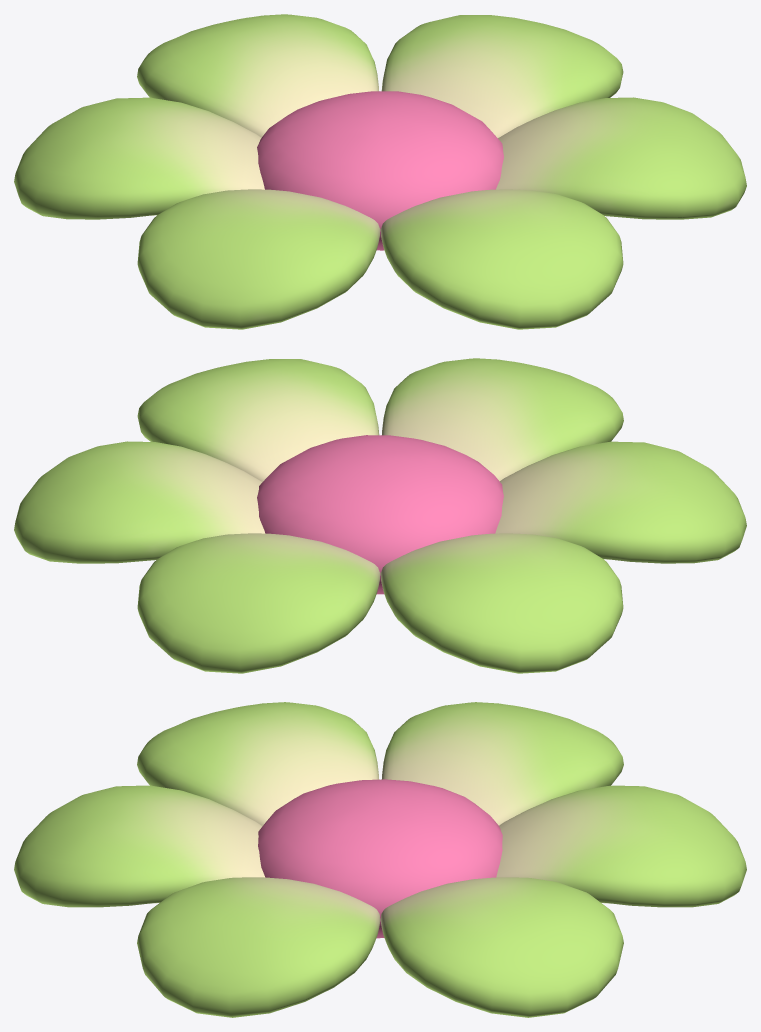
The model's file is hoa3.fbx.
3 renders of one model, top to bottom at view 1: azimuth 30°, elevation 25°; view 2: azimuth 150°, elevation 25°; view 3: azimuth 270°, elevation 25°, orthographic.
Visible parts, largest first — view 1: pasted__polySurface75, polySurface76, polySurface21, polySurface77, polySurface75, pasted__polySurface74, polySurface74; view 2: pasted__polySurface74, polySurface75, polySurface21, polySurface74, polySurface76, pasted__polySurface75, polySurface77; view 3: polySurface77, polySurface74, polySurface21, pasted__polySurface74, pasted__polySurface75, polySurface76, polySurface75.
Part boxes in pixels (left/top/right/bottom): pasted__polySurface75: left=380, top=189, right=623, bottom=329; polySurface76: left=137, top=189, right=380, bottom=329; polySurface21: left=257, top=91, right=503, bottom=250; polySurface77: left=496, top=97, right=746, bottom=219; polySurface75: left=14, top=97, right=264, bottom=219; pasted__polySurface74: left=137, top=14, right=378, bottom=137; polySurface74: left=381, top=15, right=623, bottom=137; pasted__polySurface74: left=137, top=533, right=380, bottom=673; polySurface75: left=380, top=533, right=623, bottom=673; polySurface21: left=257, top=435, right=503, bottom=594; polySurface74: left=14, top=441, right=265, bottom=563; polySurface76: left=495, top=441, right=746, bottom=563; pasted__polySurface75: left=382, top=358, right=623, bottom=481; polySurface77: left=137, top=359, right=379, bottom=481; polySurface77: left=137, top=877, right=380, bottom=1017; polySurface74: left=380, top=877, right=623, bottom=1017; polySurface21: left=258, top=779, right=502, bottom=938; pasted__polySurface74: left=496, top=785, right=746, bottom=907; pasted__polySurface75: left=14, top=785, right=265, bottom=907; polySurface76: left=137, top=702, right=379, bottom=825; polySurface75: left=381, top=702, right=623, bottom=825.
Bounding box in the file's own units: 76.09 × 15.1 × 83.55.
1 material, 1 textured.
